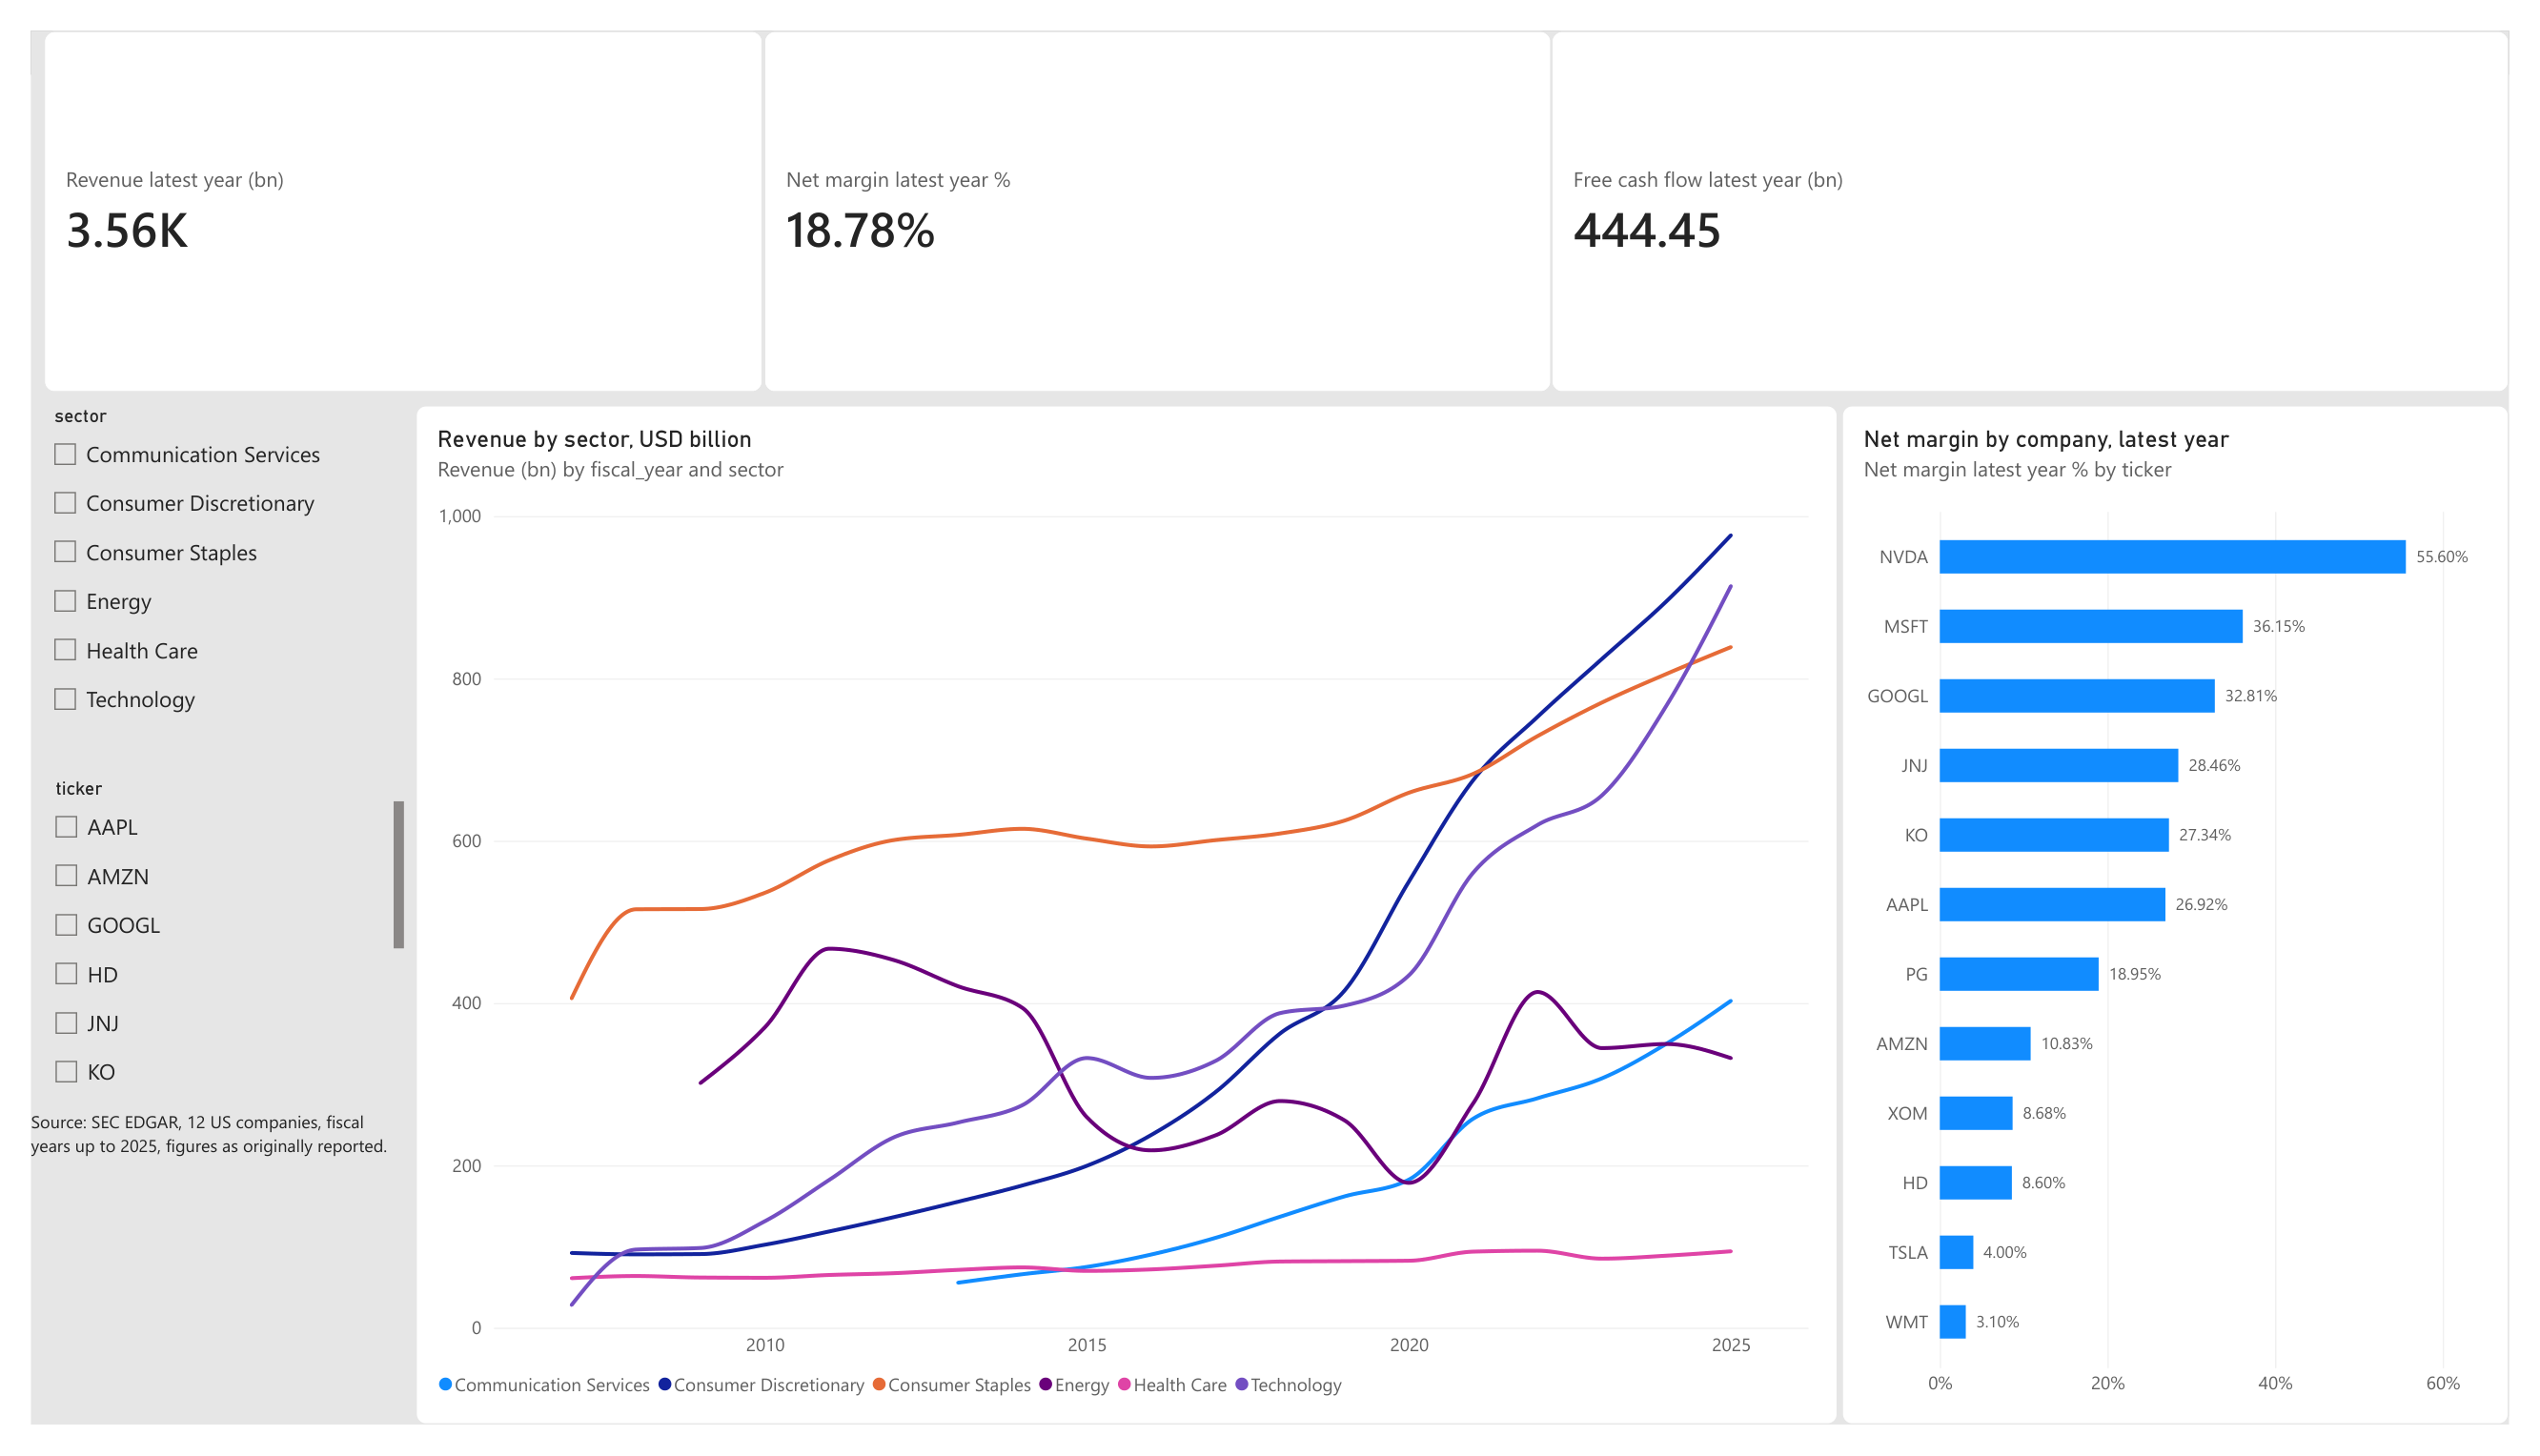

This screenshot's page, from the dashboard's own definition file:
{"tool":"powerbi","page":{"name":"Page 1","canvas":[1920,1080],"ordinal":0},"visuals":[{"type":"cardVisual","fields":{"Data":["dq_checks.Revenue latest year (bn)"]},"box":[10,0,557.5,280],"z":0},{"type":"slicer","fields":{"Values":["kpis_annual.sector"]},"box":[10,290,280,280],"z":1},{"type":"slicer","fields":{"Values":["kpis_annual.ticker"]},"box":[10.8,578.9,278.6,246.2],"z":2},{"type":"cardVisual","fields":{"Data":["dq_checks.Net margin latest year %"]},"box":[567.5,0,610,280],"z":3},{"type":"cardVisual","fields":{"Data":["dq_checks.Free cash flow latest year (bn)"]},"box":[1177.5,0,742.5,280],"z":4},{"type":"lineChart","title":"Revenue by sector, USD billion","fields":{"Category":["kpis_annual.fiscal_year"],"Series":["kpis_annual.sector"],"Y":["dq_checks.Revenue (bn)"]},"box":[297.5,290,1102.5,790],"z":5},{"type":"clusteredBarChart","title":"Net margin by company, latest year","fields":{"Category":["kpis_annual.ticker"],"Y":["dq_checks.Net margin latest year %"]},"box":[1402.5,290,517.5,790],"z":6},{"type":"textbox","box":[0,835,290,215],"z":8}]}

Visuals, with their boxes in screenshot pixels (x1, y1, x2, y2), scaled from the page's 1920x1080 canvas onto the 2540x1456 screenshot:
cardVisual - dq_checks.Revenue latest year (bn): rect(13, 0, 751, 377)
slicer - kpis_annual.sector: rect(13, 391, 384, 768)
slicer - kpis_annual.ticker: rect(14, 780, 383, 1112)
cardVisual - dq_checks.Net margin latest year %: rect(751, 0, 1557, 377)
cardVisual - dq_checks.Free cash flow latest year (bn): rect(1557, 0, 2539, 377)
"Revenue by sector, USD billion" lineChart: rect(394, 391, 1852, 1455)
"Net margin by company, latest year" clusteredBarChart: rect(1856, 391, 2539, 1455)
textbox: rect(0, 1125, 384, 1416)
